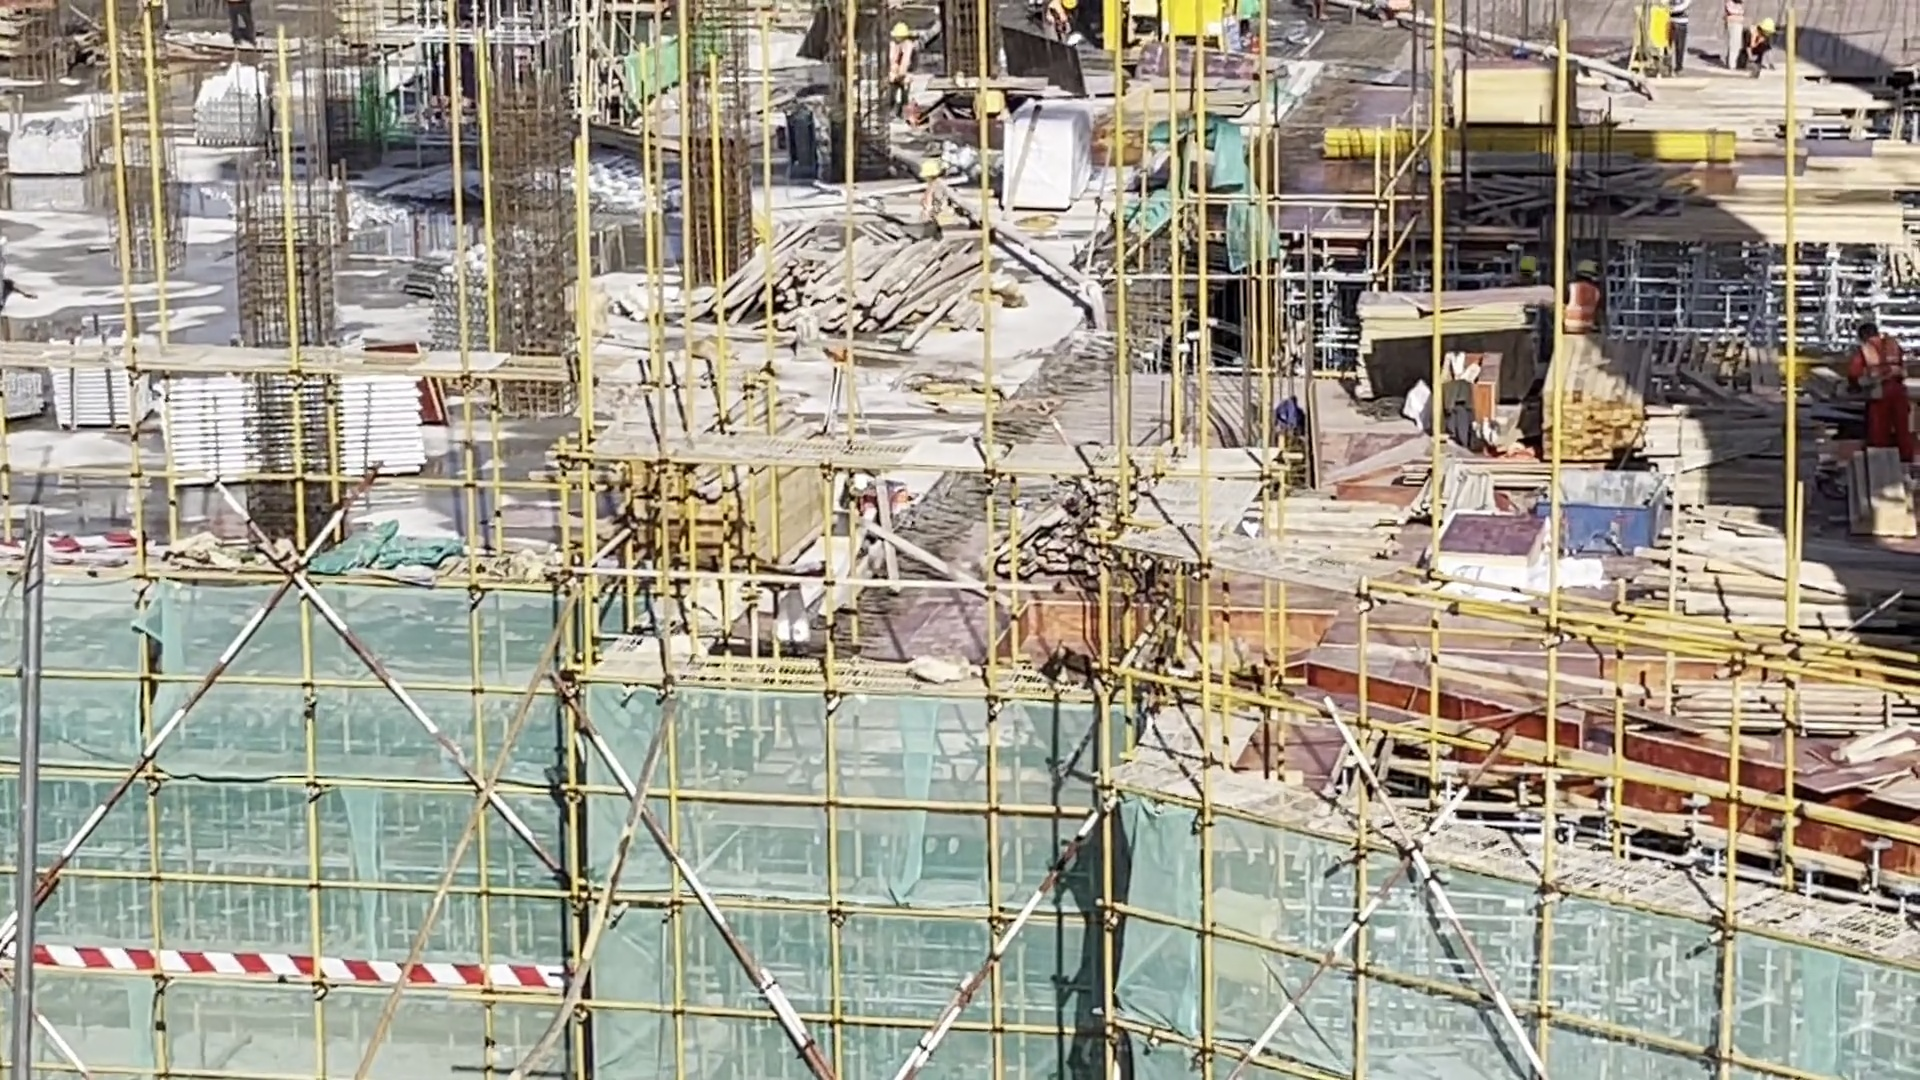board: (1652, 485, 1886, 638)
helmet: (901, 150, 947, 188), (1847, 315, 1882, 350), (879, 24, 910, 50)
hopper: (1548, 465, 1693, 582)
person: (1828, 313, 1911, 463), (834, 475, 914, 526), (884, 21, 923, 114), (1560, 258, 1601, 330), (1735, 11, 1778, 78), (1723, 1, 1749, 72), (1664, 1, 1688, 74)
scaffold: (134, 371, 429, 468), (40, 326, 126, 422), (195, 72, 264, 144)
vest: (1857, 346, 1913, 429), (1560, 283, 1595, 330), (885, 40, 914, 84)
wood: (701, 197, 1007, 374), (592, 393, 834, 572), (1634, 670, 1920, 768), (1536, 333, 1677, 493)
